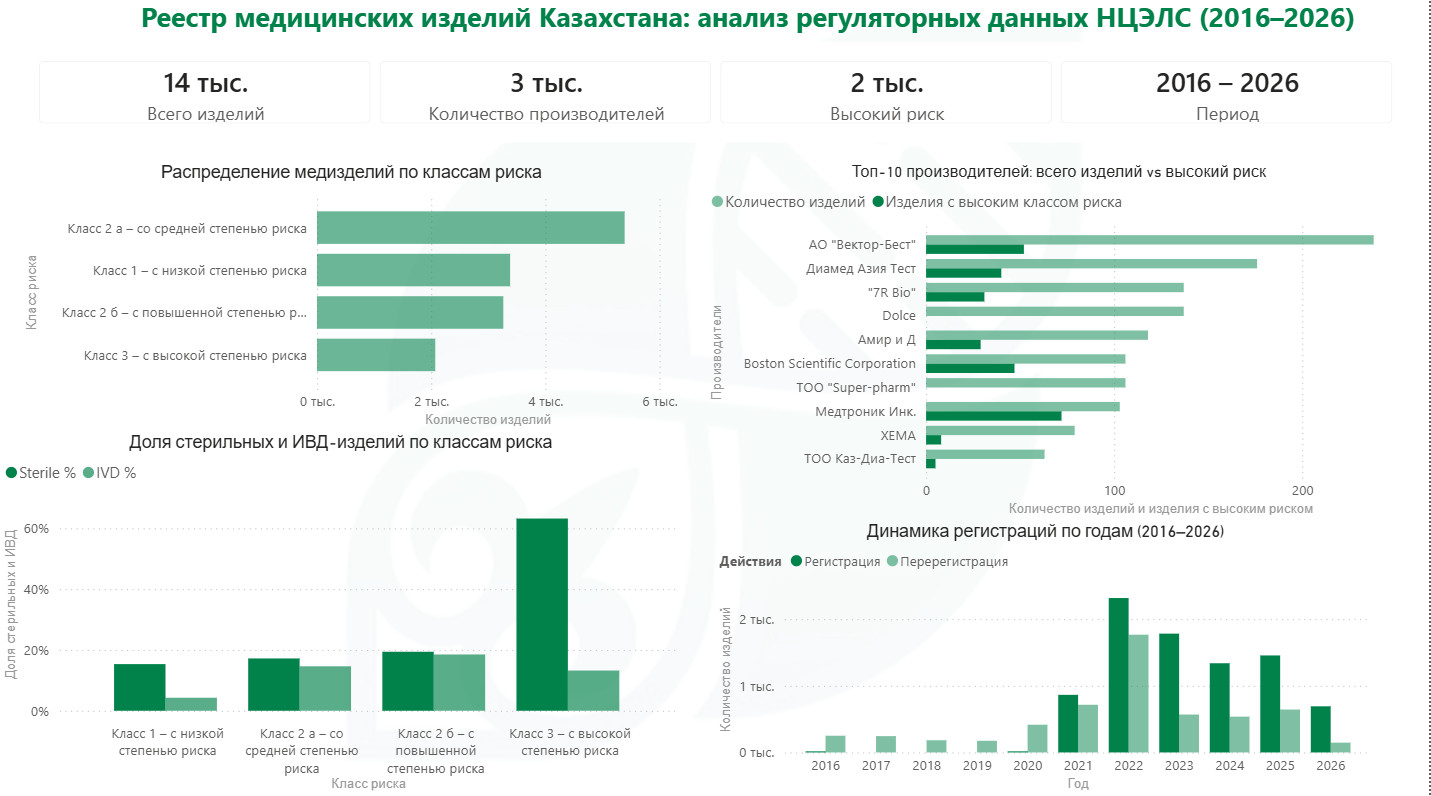

The dashboard page shown, as its layout file describes it:
{"tool":"powerbi","page":{"name":"Страница 1","canvas":[1280,720],"ordinal":0},"visuals":[{"type":"barChart","title":"Распределение медизделий по классам риска","fields":{"Category":["dim_risk_class.risk_class_name"],"Y":["CountNonNull(registrations.id)"]},"box":[18.8,152.2,593.7,241.8],"z":0},{"type":"clusteredBarChart","title":"Топ-10 производителей: всего изделий vs высокий риск","fields":{"Category":["dim_producer.producer_name_ru"],"Y":["CountNonNull(registrations.id)","Меры.High Risk Count"]},"box":[632.2,152.2,634,321.5],"z":1},{"type":"clusteredColumnChart","title":"Динамика регистраций по годам (2016–2026)","fields":{"Category":["registrations.reg_date.Изменение.Иерархия дат.Год"],"Y":["CountNonNull(registrations.id)"],"Series":["registrations.reg_action_name"]},"box":[640.3,473.7,593.7,246.3],"z":2},{"type":"clusteredColumnChart","title":"Доля стерильных и ИВД-изделий по классам риска","fields":{"Category":["dim_risk_class.risk_class_name"],"Y":["Меры.Sterile %","Меры.IVD %"]},"box":[0,394,612.5,326],"z":3},{"type":"textbox","box":[104.8,0,1131.9,44.8],"z":4},{"type":"cardVisual","fields":{"Data":["Меры.Всего изделий","Меры.Количество производителей","Меры.Высокий риск","Меры.Период"]},"box":[18.8,44.8,1247.5,90.4],"z":5}]}

Visuals, with their boxes in screenshot pixels (x1, y1, x2, y2), scaled from the page's 1280x720 canvas onto the 1431x796 screenshot:
"Распределение медизделий по классам риска" barChart: (x1=21, y1=168, x2=685, y2=436)
"Топ-10 производителей: всего изделий vs высокий риск" clusteredBarChart: (x1=707, y1=168, x2=1416, y2=524)
"Динамика регистраций по годам (2016–2026)" clusteredColumnChart: (x1=716, y1=524, x2=1380, y2=795)
"Доля стерильных и ИВД-изделий по классам риска" clusteredColumnChart: (x1=0, y1=436, x2=685, y2=795)
textbox: (x1=117, y1=0, x2=1383, y2=50)
cardVisual - Меры.Всего изделий x Меры.Количество производителей: (x1=21, y1=50, x2=1416, y2=149)
